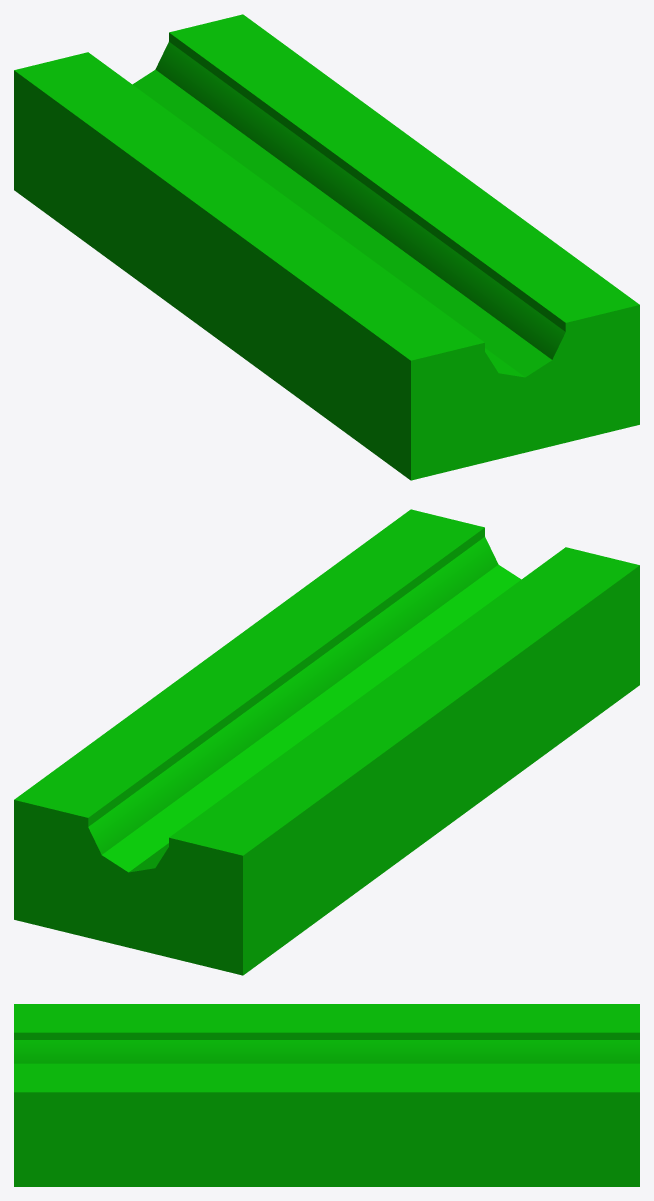
File: UCXKugelbahn.46.fbx
3 views of the same model, one above another, from view 1: azimuth 30°, elevation 25°; view 2: azimuth 150°, elevation 25°; view 3: azimuth 270°, elevation 25° (orthographic). The views are drawn at different scales.
Visible parts, largest first — view 1: UCX_Kugelbahn.46_low; view 2: UCX_Kugelbahn.46_low; view 3: UCX_Kugelbahn.46_low.
Boxes of the visible parts, bbox=[...] form: UCX_Kugelbahn.46_low: bbox=[14, 14, 639, 480]; UCX_Kugelbahn.46_low: bbox=[14, 509, 639, 975]; UCX_Kugelbahn.46_low: bbox=[14, 1004, 639, 1186].
Bounding box in the file's own units: 0.05 × 0.025 × 0.15.
